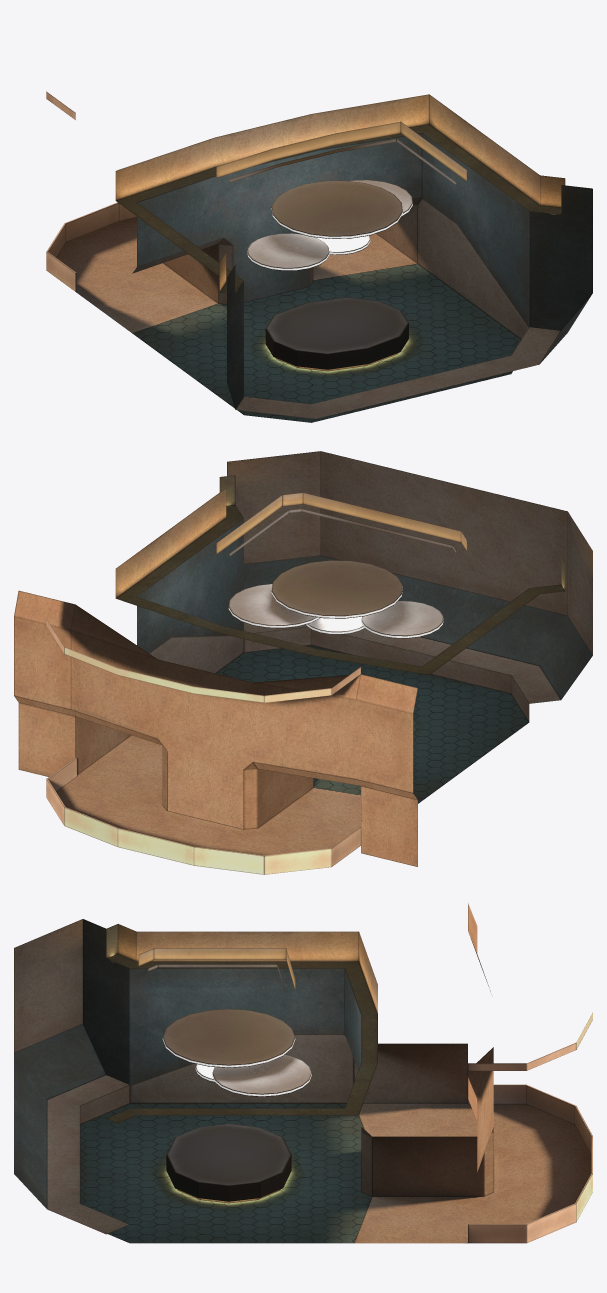
Rendered from MeetingSpace1_mesh.glb.
The picture shows the model from 3 angles, top to bottom: view 1: azimuth 30°, elevation 25°; view 2: azimuth 150°, elevation 25°; view 3: azimuth 270°, elevation 25°; orthographic projection.
Parts seen in each view (by area): view 1: MeetingSpace1_mesh; view 2: MeetingSpace1_mesh; view 3: MeetingSpace1_mesh.
Boxes of the visible parts, left/top/right/bottom form: MeetingSpace1_mesh: left=46, top=91, right=592, bottom=422; MeetingSpace1_mesh: left=14, top=451, right=592, bottom=874; MeetingSpace1_mesh: left=14, top=903, right=592, bottom=1243.
Size of the model in its own units: 21 by 9.37 by 26.25.
Materials: 1 (1 with a texture image).
